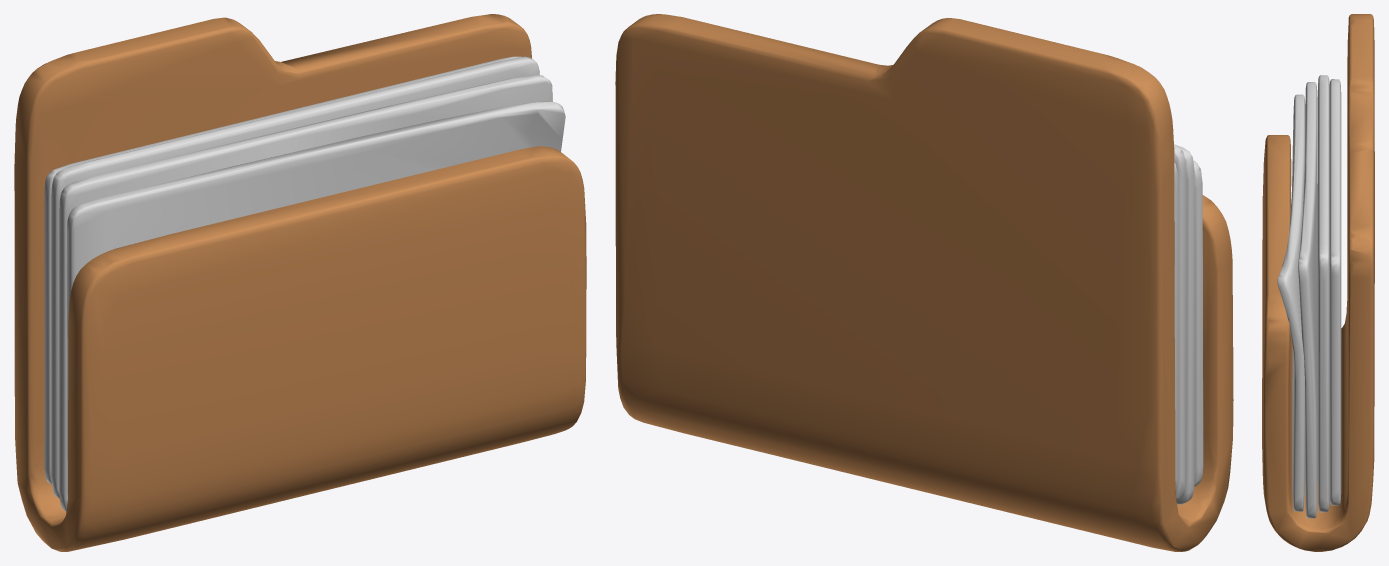
File: folder.glb
3 views of the same model, side by side, from view 1: azimuth 30°, elevation 25°; view 2: azimuth 150°, elevation 25°; view 3: azimuth 270°, elevation 25° (orthographic). The views are drawn at different scales.
Visible parts, largest first — view 1: Plane.011; view 2: Plane.011; view 3: Plane.011.
Part boxes in pixels (x1,y1,x2,y2): Plane.011: (14, 14, 586, 551); Plane.011: (615, 14, 1233, 551); Plane.011: (1262, 14, 1374, 551).
Bounding box in the file's own units: 1.9 × 1.65 × 0.4663.
